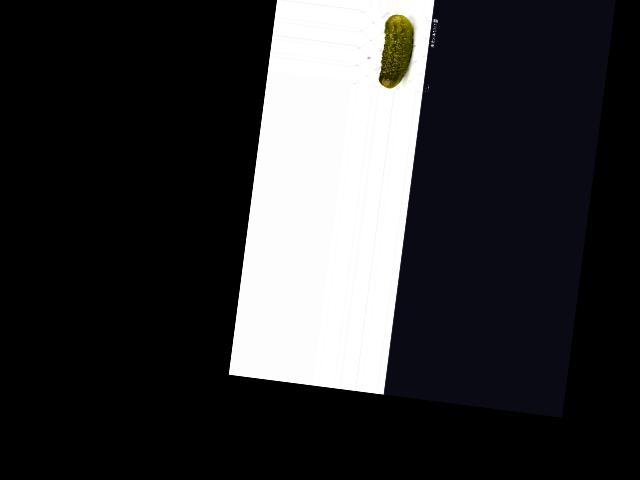cucumber: (377, 13, 416, 91)
